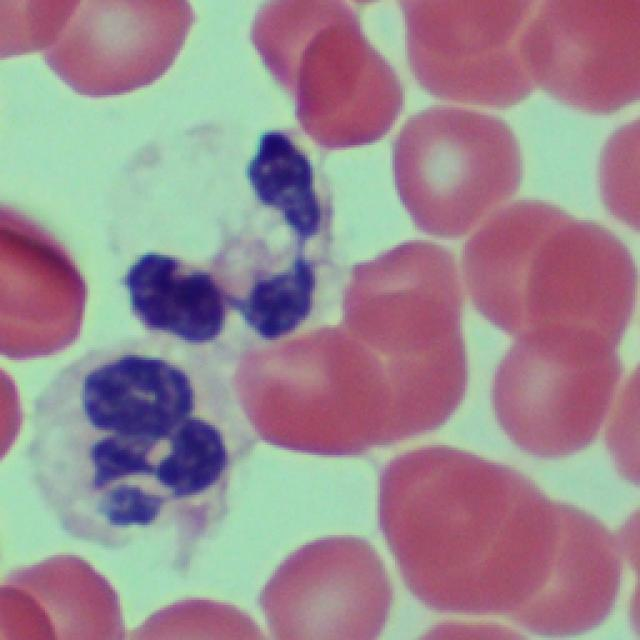RBC: (377, 444, 617, 638), (477, 198, 631, 462), (346, 227, 464, 440), (385, 98, 512, 246), (272, 9, 399, 156), (398, 2, 547, 120), (1, 189, 85, 366), (504, 0, 638, 110), (36, 0, 194, 93), (257, 528, 388, 638), (13, 545, 128, 640), (596, 109, 640, 236)
WBC: (76, 112, 345, 362), (38, 349, 242, 550)
